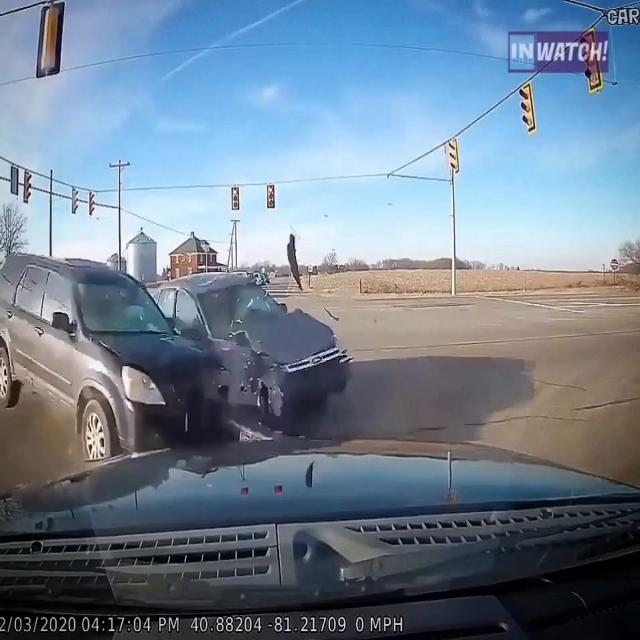accident: (1, 244, 349, 430)
